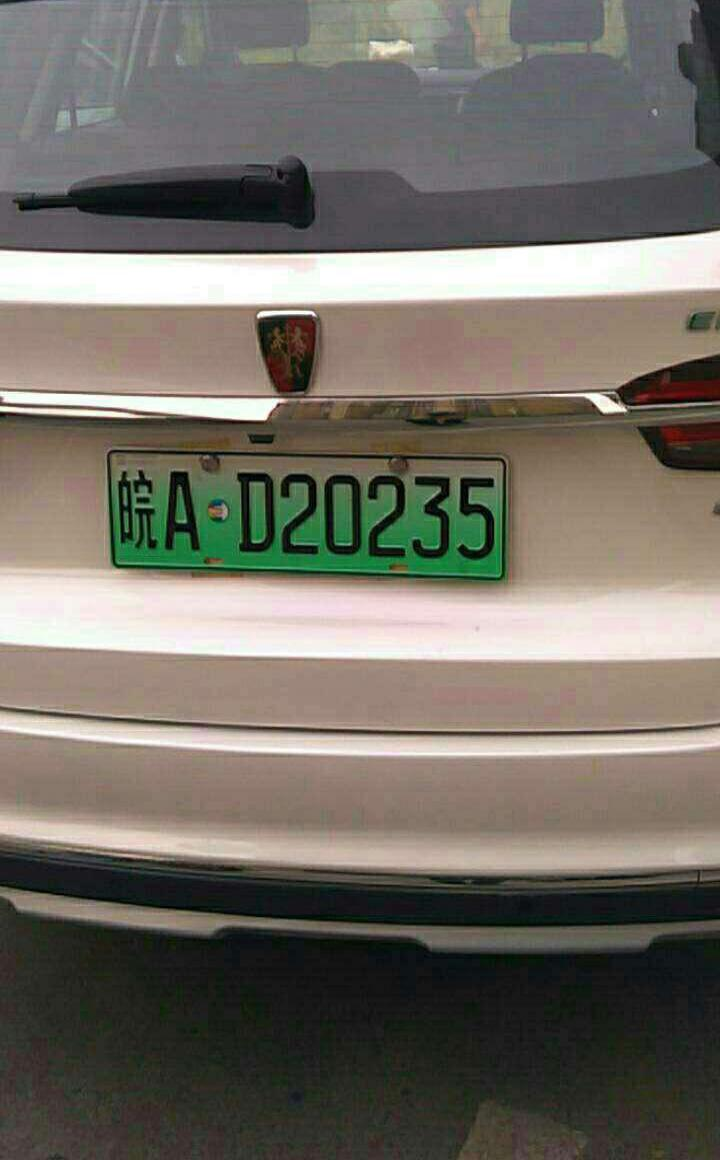car: (107, 448, 511, 582)
